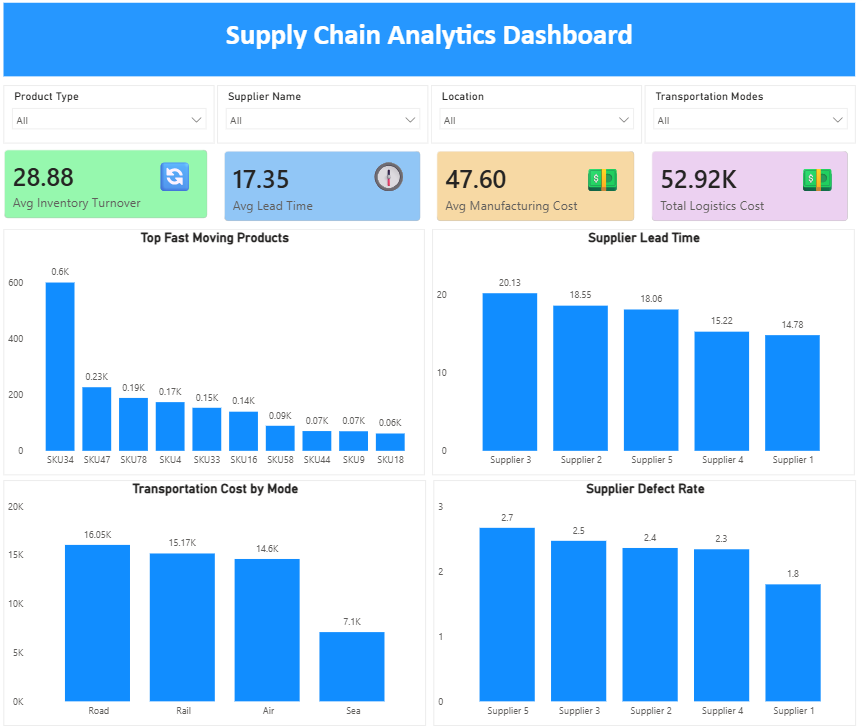

What the dashboard file says about the page in this screenshot:
{"tool":"powerbi","page":{"name":"Operations Dashboard","canvas":[1123,952],"ordinal":1},"visuals":[{"type":"textbox","box":[10,11.7,1101.7,95],"z":0,"group":"g1"},{"type":"cardVisual","fields":{"Data":["MeasuresTable.Avg Inventory Turnover"]},"box":[1,192.4,281.3,107.7],"z":0},{"type":"cardVisual","fields":{"Data":["MeasuresTable.Avg Lead Time"]},"box":[285.5,193.5,273,109.8],"z":1000},{"type":"cardVisual","fields":{"Data":["MeasuresTable.Avg Manufacturing Cost"]},"box":[561.6,193.5,274,109.8],"z":2000},{"type":"cardVisual","fields":{"Data":["MeasuresTable.Total Logistics Cost"]},"box":[838.7,193.5,273,109.8],"z":3000},{"type":"clusteredColumnChart","title":"Top Fast Moving Products","fields":{"Category":["supplychain vw_inventory_health.sku"],"Y":["Sum(supplychain vw_inventory_health.inventory_turnover)"]},"box":[10,303.3,545,318.3],"z":5000},{"type":"clusteredColumnChart","title":"Transportation Cost by Mode","fields":{"Category":["supplychain vw_logistics_performance.transportation_modes"],"Y":["Sum(supplychain vw_logistics_performance.total_transport_cost)"]},"box":[9,629,546.7,317.4],"z":6000},{"type":"textbox","box":[473.3,205.8,68.6,60.4],"z":7000},{"type":"slicer","fields":{"Values":["supplychain supply_chain.product_type"]},"box":[9.6,118,273,75.5],"z":8000},{"type":"slicer","fields":{"Values":["supplychain supply_chain.supplier_name"]},"box":[285.9,118,273,75.5],"z":9000},{"type":"slicer","fields":{"Values":["supplychain supply_chain.location"]},"box":[562.2,118,273,75.5],"z":10000},{"type":"slicer","fields":{"Values":["supplychain supply_chain.transportation_modes"]},"box":[838.4,118,273.1,75.5],"z":11000},{"type":"textbox","box":[196.6,205.8,68,60.7],"z":12000},{"type":"textbox","box":[750.7,205.8,68.6,60.4],"z":13000},{"type":"textbox","box":[1028,205.8,68,60.7],"z":14000},{"type":"clusteredColumnChart","title":"Supplier Lead Time","fields":{"Y":["Avg(supplychain supply_chain.lead_time)"],"Category":["supplychain supply_chain.supplier_name"]},"box":[565,303.3,546.7,318.3],"z":16000},{"type":"clusteredColumnChart","title":"Supplier Defect Rate","fields":{"Category":["supplychain vw_supplier_performance.supplier_name"],"Y":["Sum(supplychain vw_supplier_performance.avg_defect_rate)"]},"box":[565.3,629,546.7,317.4],"z":17000},{"type":"group","id":"g1","title":"Group 1","box":[10,11.7,1101.7,95],"z":18000}]}

Visuals, with their boxes in screenshot pixels (x1, y1, x2, y2), scaled from the page's 1123x952 canvas onto the 862x728 screenshot:
textbox: rect(8, 9, 853, 82)
cardVisual - MeasuresTable.Avg Inventory Turnover: rect(1, 147, 217, 229)
cardVisual - MeasuresTable.Avg Lead Time: rect(219, 148, 429, 232)
cardVisual - MeasuresTable.Avg Manufacturing Cost: rect(431, 148, 641, 232)
cardVisual - MeasuresTable.Total Logistics Cost: rect(644, 148, 853, 232)
"Top Fast Moving Products" clusteredColumnChart: rect(8, 232, 426, 475)
"Transportation Cost by Mode" clusteredColumnChart: rect(7, 481, 427, 724)
textbox: rect(363, 157, 416, 204)
slicer - supplychain supply_chain.product_type: rect(7, 90, 217, 148)
slicer - supplychain supply_chain.supplier_name: rect(219, 90, 429, 148)
slicer - supplychain supply_chain.location: rect(432, 90, 641, 148)
slicer - supplychain supply_chain.transportation_modes: rect(644, 90, 853, 148)
textbox: rect(151, 157, 203, 204)
textbox: rect(576, 157, 629, 204)
textbox: rect(789, 157, 841, 204)
"Supplier Lead Time" clusteredColumnChart: rect(434, 232, 853, 475)
"Supplier Defect Rate" clusteredColumnChart: rect(434, 481, 854, 724)
"Group 1" group: rect(8, 9, 853, 82)
